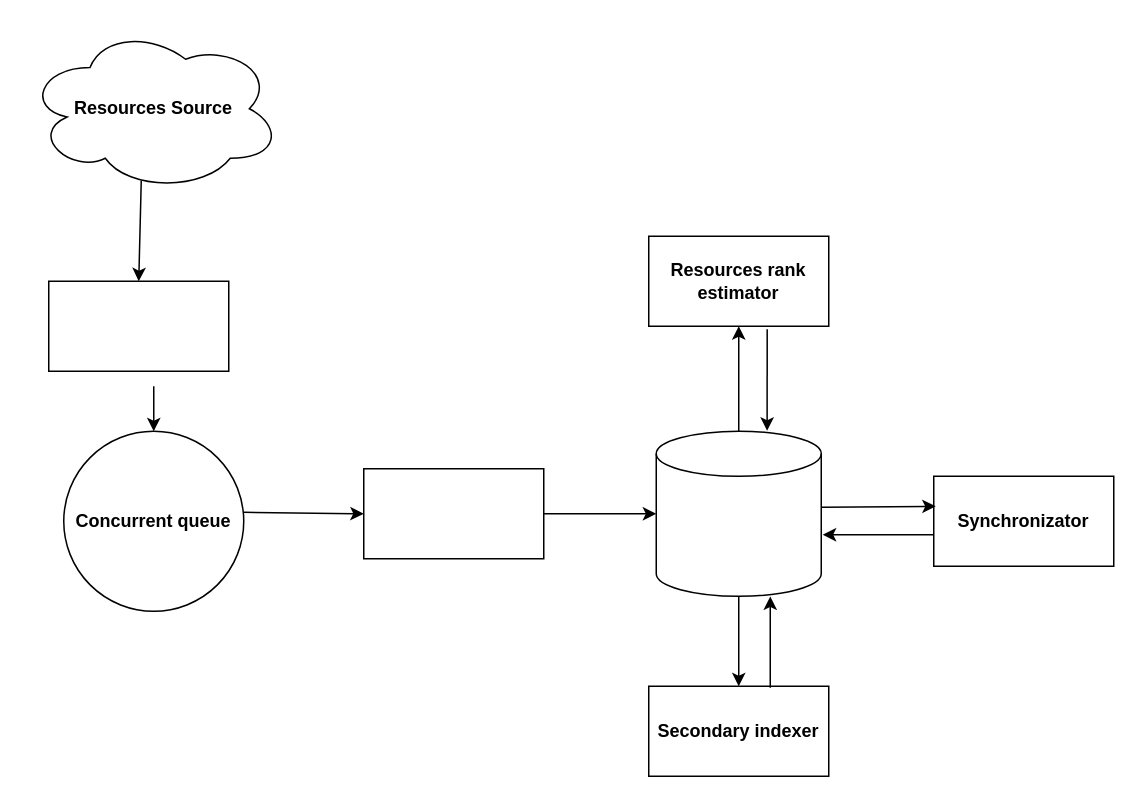
This 1140x803 diagram has some shape labels left out. The centre of each missing label's shape, as x and y in pixels:
"Index database" goes at pixel 738 513.
"Multithreaded primary indexer" goes at pixel 453 513.
"Resources Loader" goes at pixel 138 325.
